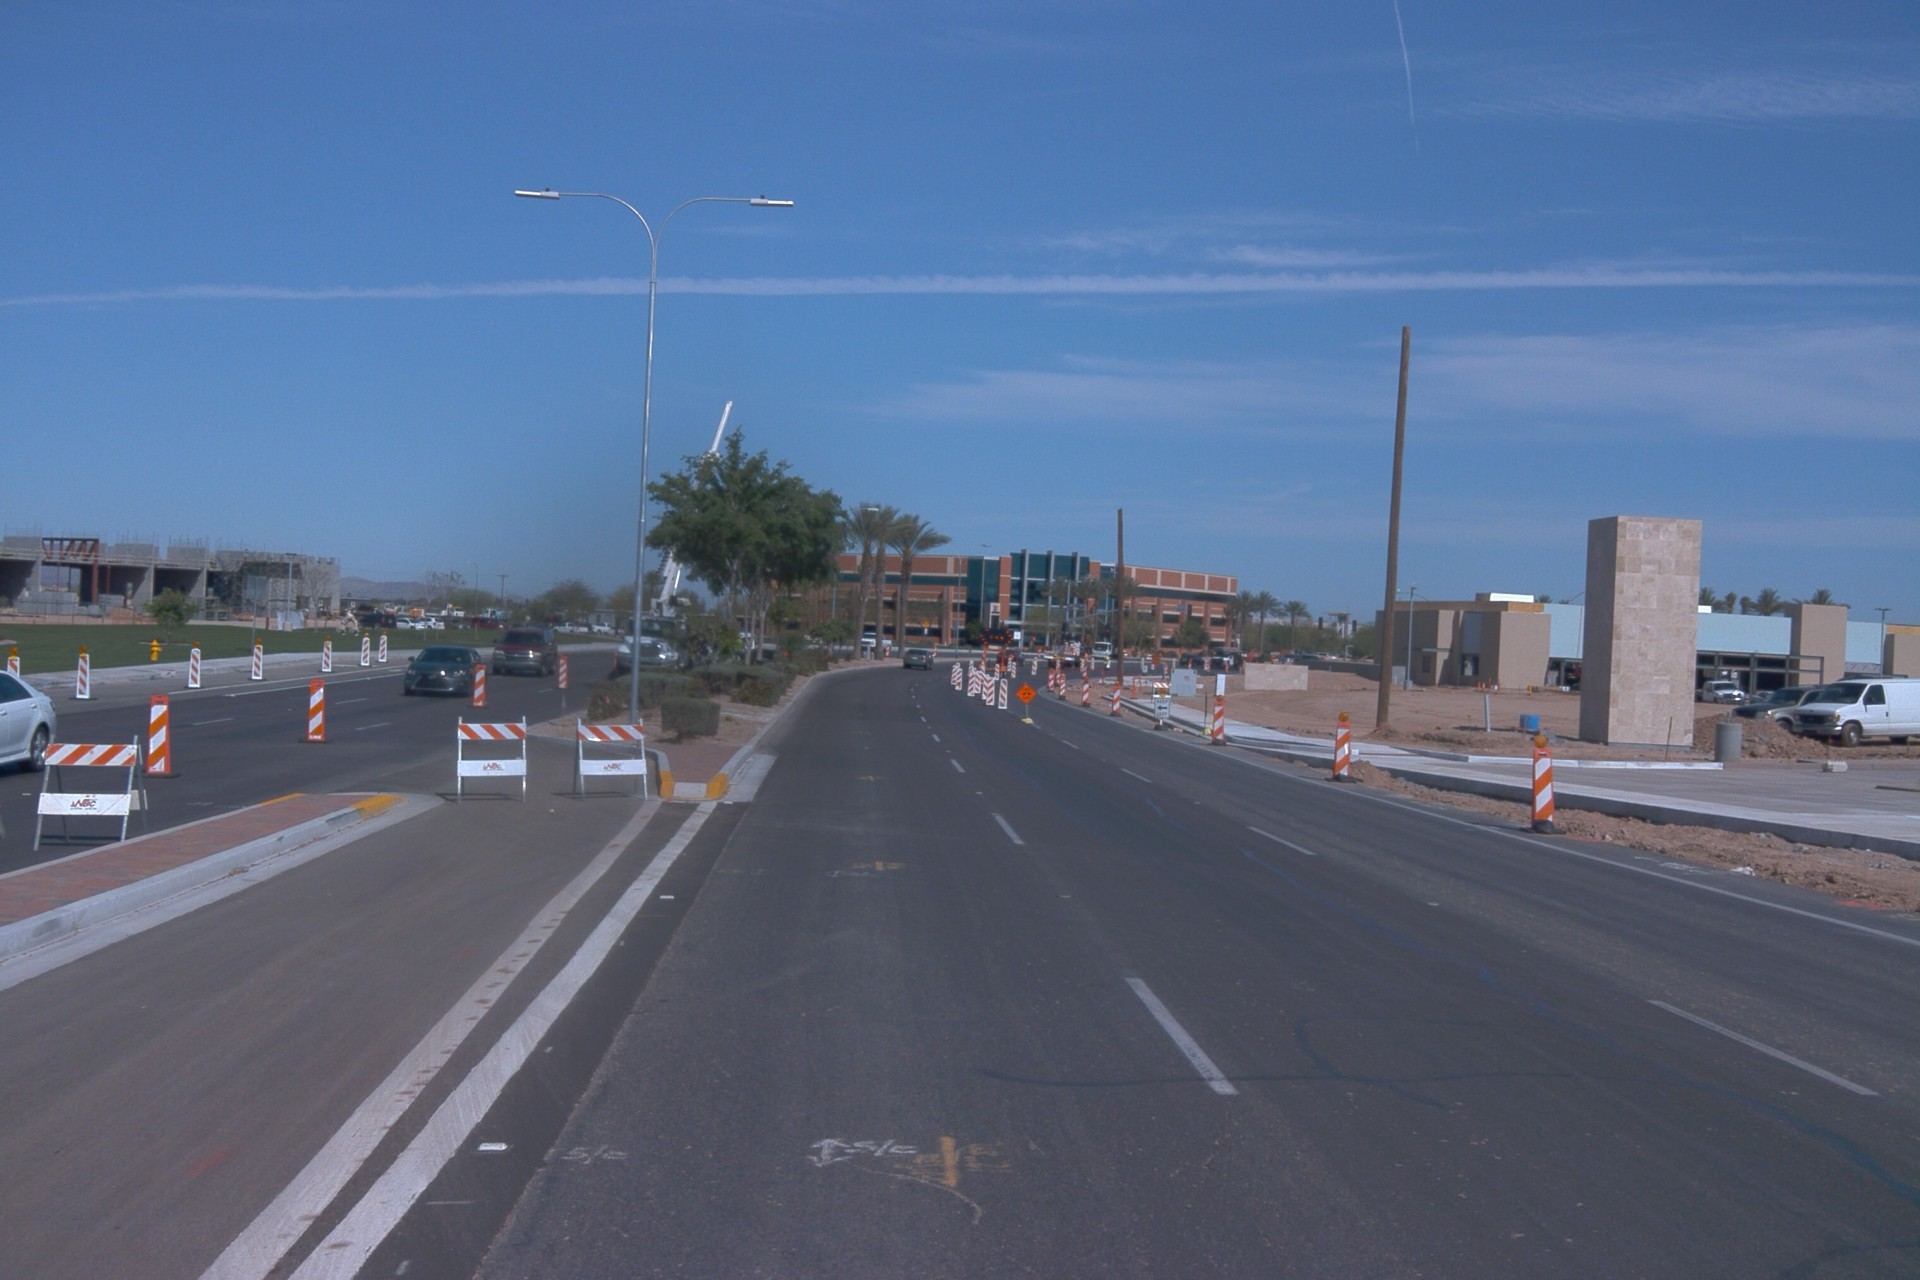TYPE_PEDESTRIAN: (735, 637, 748, 665), (1103, 652, 1110, 669)
TYPE_VEHICLE: (600, 391, 744, 691), (1786, 676, 1920, 751), (1, 668, 61, 772), (1731, 685, 1833, 737), (404, 646, 488, 699), (488, 624, 558, 683), (975, 627, 1018, 681), (1041, 638, 1092, 674), (1696, 677, 1752, 708), (1209, 647, 1266, 673), (466, 616, 511, 635), (355, 612, 398, 631), (860, 631, 894, 655), (901, 648, 933, 672), (550, 619, 590, 638), (343, 604, 387, 621), (1089, 639, 1116, 664), (442, 615, 475, 633), (395, 617, 427, 633), (416, 616, 444, 632), (994, 649, 1014, 668), (1277, 653, 1303, 666)
